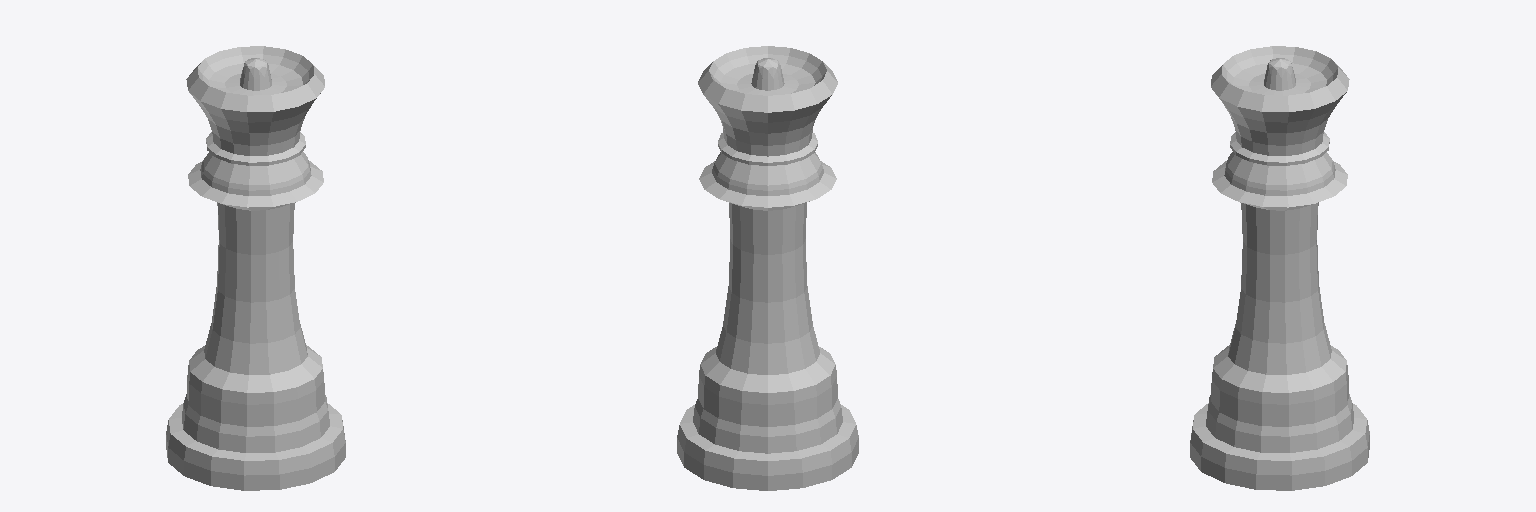
File: queen.obj
3 views of the same model, side by side, from view 1: azimuth 30°, elevation 25°; view 2: azimuth 150°, elevation 25°; view 3: azimuth 270°, elevation 25° (orthographic).
Parts seen in each view (by area): view 1: Queen_Circle.002; view 2: Queen_Circle.002; view 3: Queen_Circle.002.
Boxes of the visible parts, x1,y1,x2,y2 form: Queen_Circle.002: [166, 46, 345, 490]; Queen_Circle.002: [677, 46, 858, 490]; Queen_Circle.002: [1190, 46, 1369, 490].
Size of the model in its own units: 0.8876 by 2.15 by 0.8876.